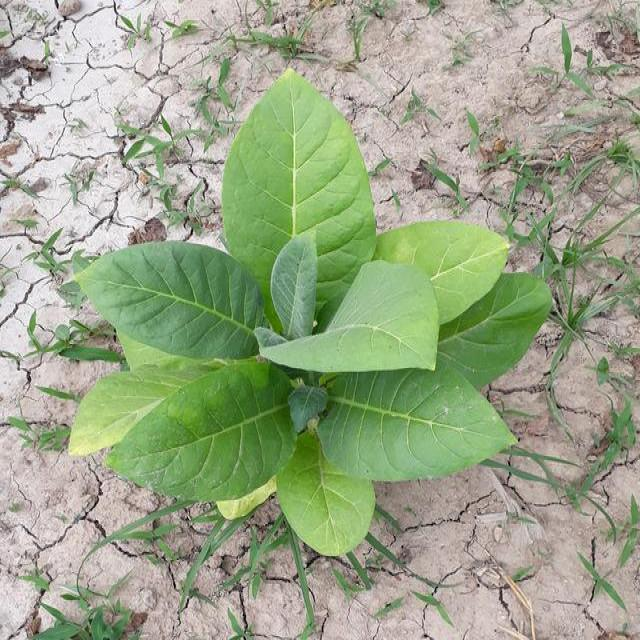crop: (81, 91, 534, 538)
